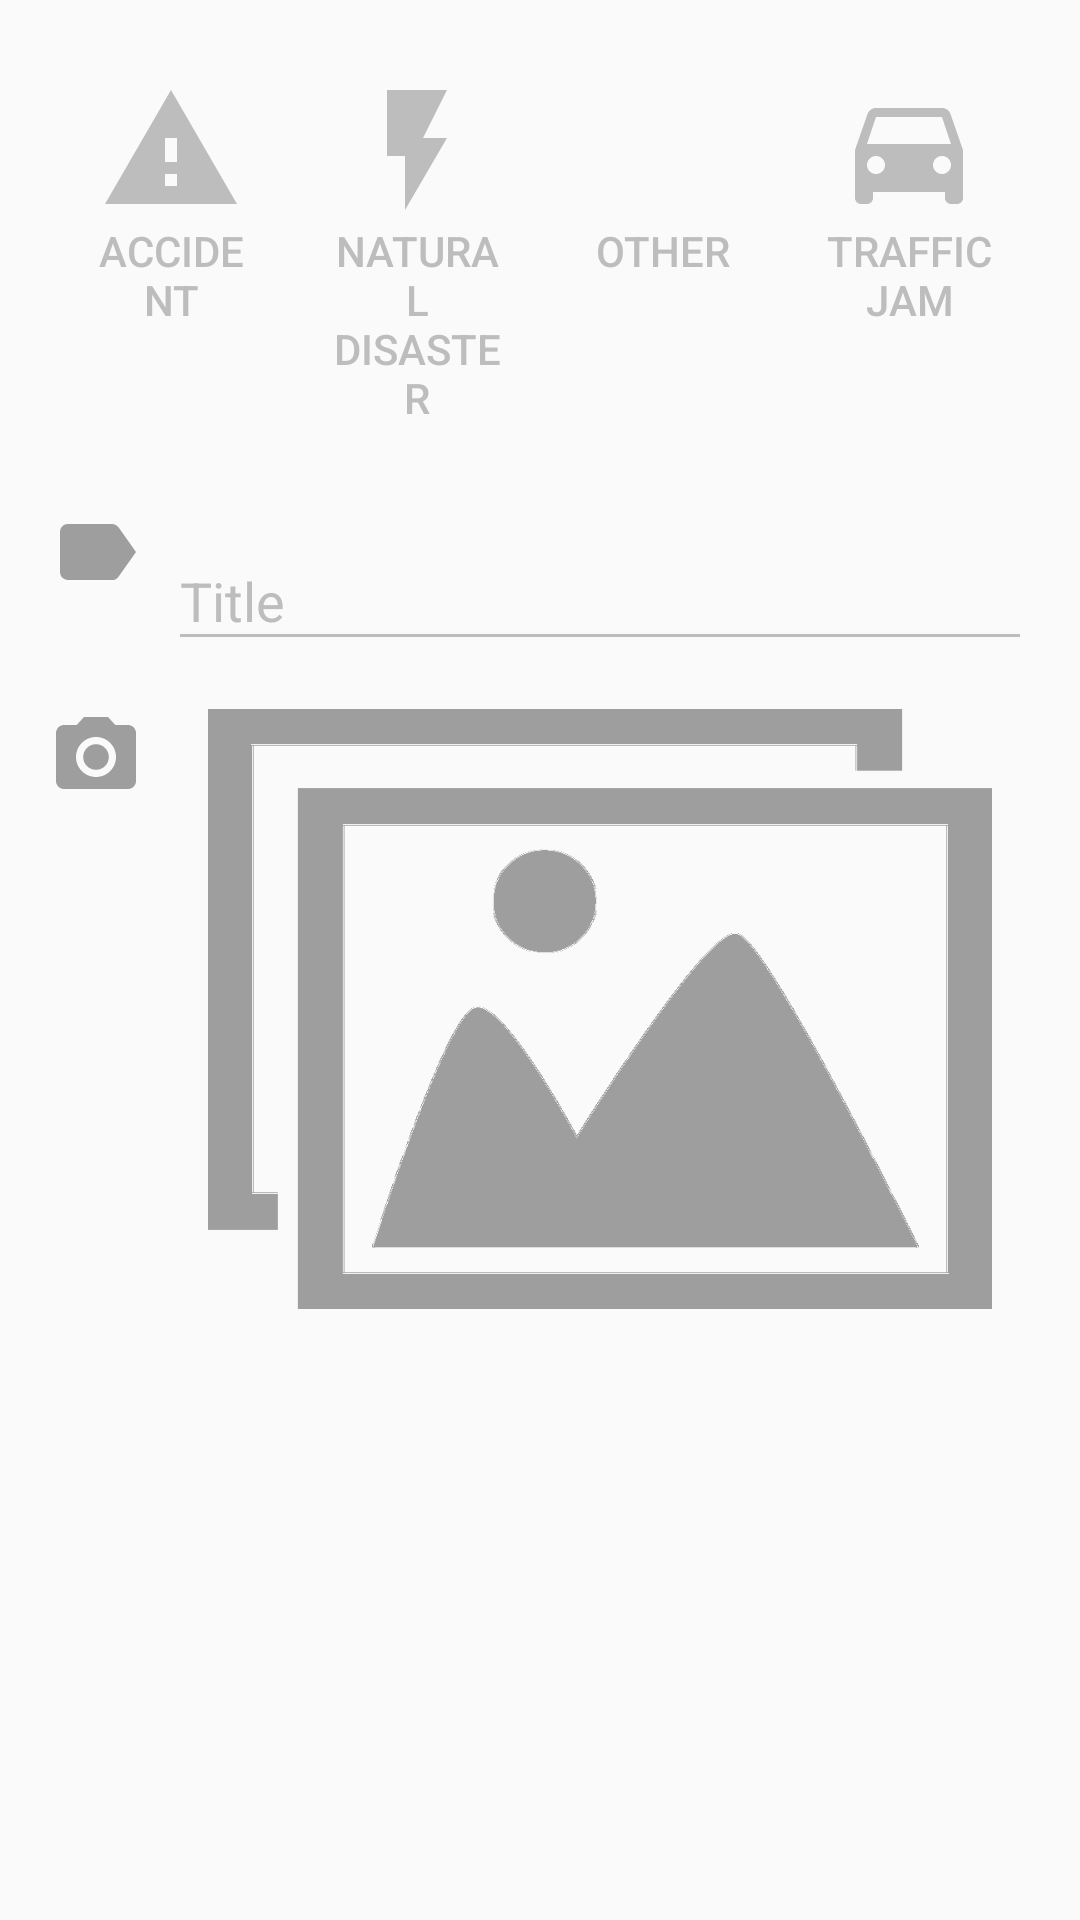

Icon click points for this 1080 × 1920 phone screenshot, format (x,y):
label: (98,552)
photo camera: (96,753)
